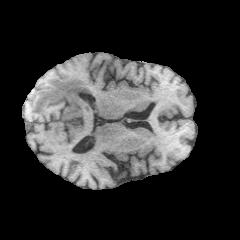glioma: (30, 78, 92, 117)
